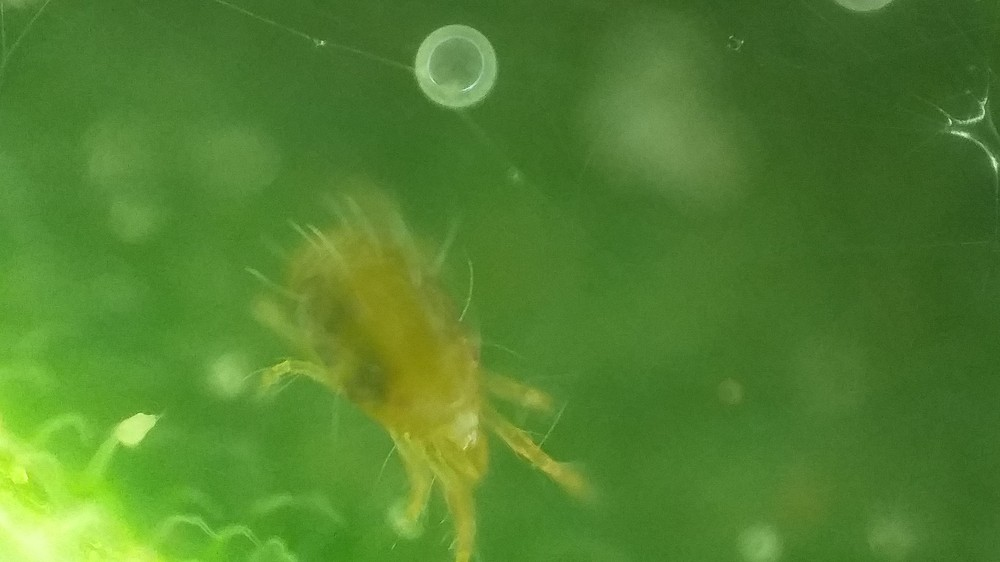Aracnido Rojo: (226, 189, 636, 562)
